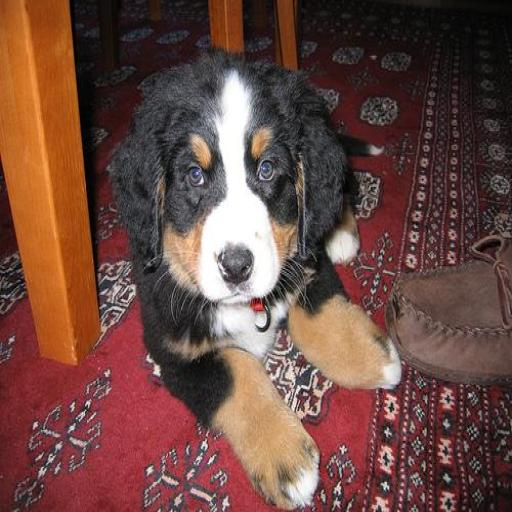dog_face: (124, 56, 334, 311)
